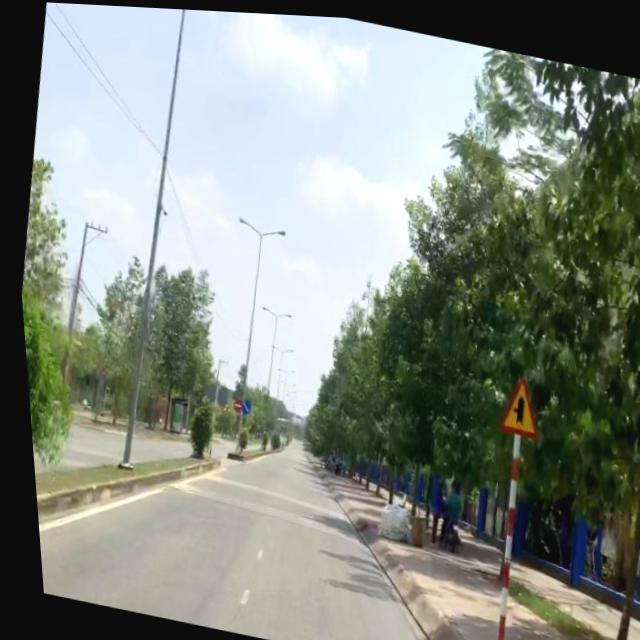Cam di nguoc chieu: (227, 396, 237, 411)
Giao nhau voi duong khong uu tien ben trai: (490, 367, 542, 434)
Vong chuong ngai vat sang phai: (235, 398, 246, 414)
